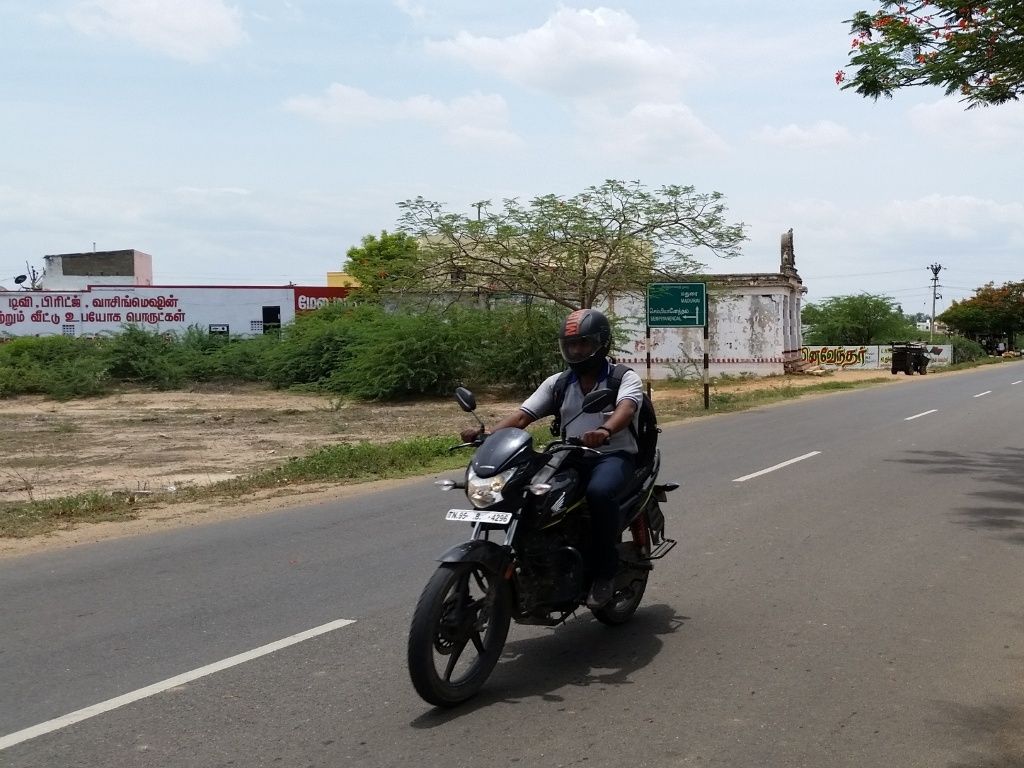biker: (380, 255, 710, 731)
helmet: (552, 297, 628, 388)
